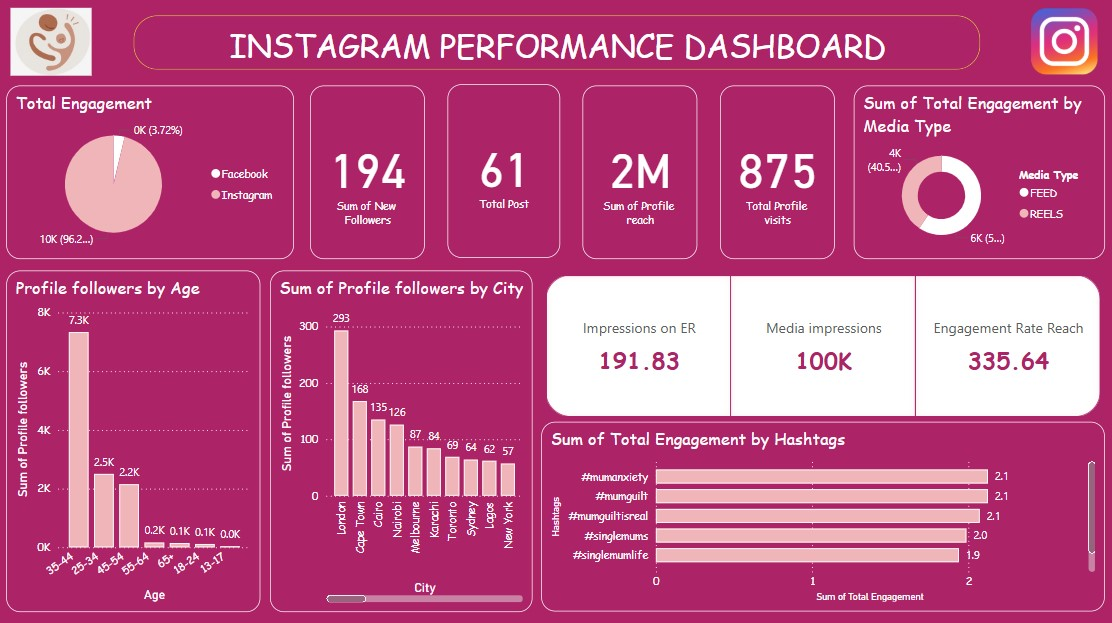

The page's visual inventory and layout, read from the dashboard file:
{"tool":"powerbi","page":{"name":"Page 1","canvas":[1280,720],"ordinal":0},"visuals":[{"type":"textbox","title":"INSTAGRAM PERFORMANCE DASHBOARD","box":[152.9,20,967.1,61.4],"z":0},{"type":"pieChart","title":"Total Engagement","fields":{"Y":["Facebook Post Engagement.Total_Engagements","Sum(Instagram Post Engagement.Total Engagement)"]},"box":[7.1,100,328.6,198.6],"z":1000},{"type":"columnChart","title":"Profile followers by Age","fields":{"Category":["Instagram Age Gender Demographi.Age"],"Y":["Sum(Instagram Age Gender Demographi.Profile followers)"]},"box":[7.1,311.4,290,390],"z":2000},{"type":"card","fields":{"Values":["Sum(Instagram Profile Overview.New followers)"]},"box":[354.3,100,131.4,198.6],"z":3000},{"type":"card","fields":{"Values":["Sum(Instagram Profile Overview.Profile reach)"]},"box":[665.7,100,131.4,198.6],"z":4000},{"type":"card","fields":{"Values":["Sum(Instagram Profile Overview.Profile visits)"]},"box":[822.9,100,131.4,198.6],"z":5000},{"type":"clusteredColumnChart","fields":{"Y":["Sum(Instagram Top Cities Regions.Profile followers)"],"Category":["Instagram Top Cities Regions.City"]},"box":[308.6,311.4,300,390],"z":6000},{"type":"cardVisual","fields":{"Data":["Sum(Instagram Post Engagement.Engagement_Rate_Impressions)","Sum(Instagram Post Engagement.Media impressions)","Sum(Instagram Post Engagement.Engagement_Rate_Reach)"]},"box":[618.6,311.4,644.3,172.9],"z":7000},{"type":"donutChart","fields":{"Category":["Instagram Post Engagement.Media product type"],"Y":["Sum(Instagram Post Engagement.Total Engagement)"]},"box":[976,100,287,198],"z":8000},{"type":"clusteredBarChart","fields":{"Category":["hashtag_analysis.hashtags"],"Y":["Sum(hashtag_analysis.total_engagement)"]},"box":[618.6,484.3,644.3,217.1],"z":9000},{"type":"card","fields":{"Values":["CountNonNull(Instagram Post Engagement.Media ID)"]},"box":[511.4,98.6,128.6,198.6],"z":10000},{"type":"image","box":[1170,0,92.9,98.6],"z":11000},{"type":"image","box":[7.1,0,102.9,100],"z":12000}]}

Visuals, with their boxes in screenshot pixels (x1, y1, x2, y2), scaled from the page's 1280x720 canvas onto the 1112x623 screenshot:
"INSTAGRAM PERFORMANCE DASHBOARD" textbox: region(133, 17, 973, 70)
"Total Engagement" pieChart: region(6, 87, 292, 258)
"Profile followers by Age" columnChart: region(6, 269, 258, 607)
card - Sum(Instagram Profile Overview.New followers): region(308, 87, 422, 258)
card - Sum(Instagram Profile Overview.Profile reach): region(578, 87, 692, 258)
card - Sum(Instagram Profile Overview.Profile visits): region(715, 87, 829, 258)
clusteredColumnChart - Sum(Instagram Top Cities Regions.Profile followers) x Instagram Top Cities Regions.City: region(268, 269, 529, 607)
cardVisual - Sum(Instagram Post Engagement.Engagement_Rate_Impressions) x Sum(Instagram Post Engagement.Media impressions): region(537, 269, 1097, 419)
donutChart - Instagram Post Engagement.Media product type x Sum(Instagram Post Engagement.Total Engagement): region(848, 87, 1097, 258)
clusteredBarChart - hashtag_analysis.hashtags x Sum(hashtag_analysis.total_engagement): region(537, 419, 1097, 607)
card - CountNonNull(Instagram Post Engagement.Media ID): region(444, 85, 556, 257)
image: region(1016, 0, 1097, 85)
image: region(6, 0, 96, 87)
